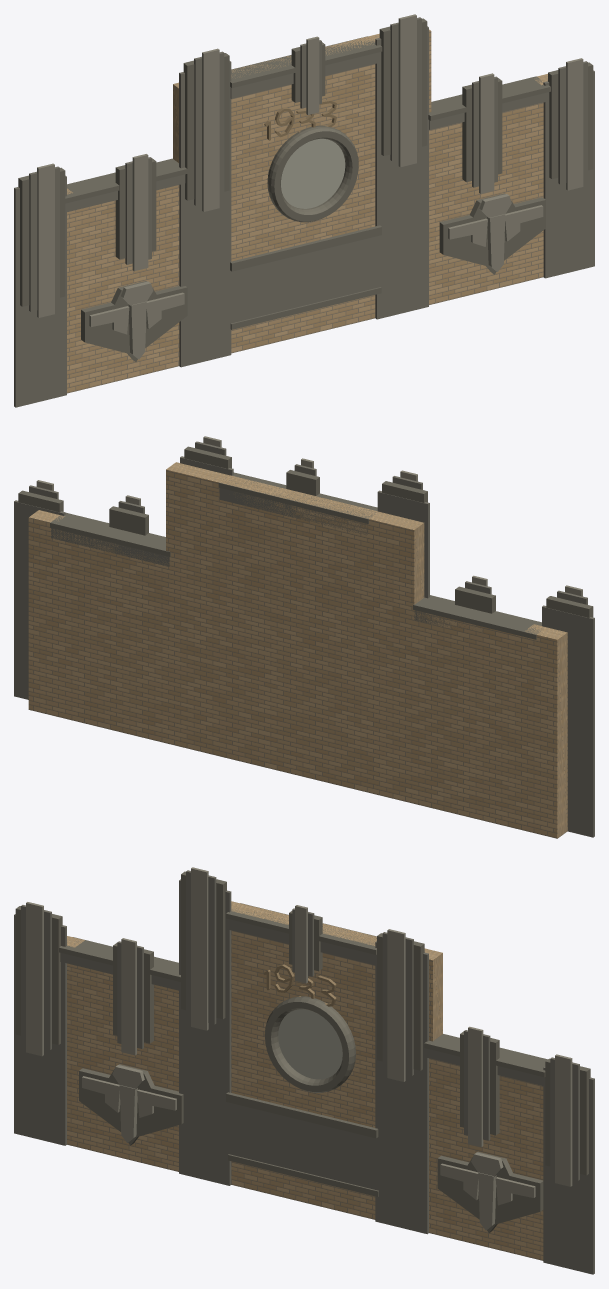
File: huangpu-south-suzhou-1305-warehouse-stepped-crown-lod.glb
3 renders of one model, top to bottom at view 1: azimuth 30°, elevation 25°; view 2: azimuth 150°, elevation 25°; view 3: azimuth 330°, elevation 25°, orthographic.
Parts seen in each view (by area): view 1: 南苏州路1305号仓库山字形圆饰及水泥压花壁柱; view 2: 南苏州路1305号仓库山字形圆饰及水泥压花壁柱; view 3: 南苏州路1305号仓库山字形圆饰及水泥压花壁柱.
Boxes of the visible parts, bbox=[...] form: 南苏州路1305号仓库山字形圆饰及水泥压花壁柱: bbox=[14, 14, 594, 407]; 南苏州路1305号仓库山字形圆饰及水泥压花壁柱: bbox=[14, 436, 594, 838]; 南苏州路1305号仓库山字形圆饰及水泥压花壁柱: bbox=[14, 867, 594, 1274].
Size of the model in its own units: 10.11 by 5.23 by 0.535.
Materials: 6 (1 with a texture image).
